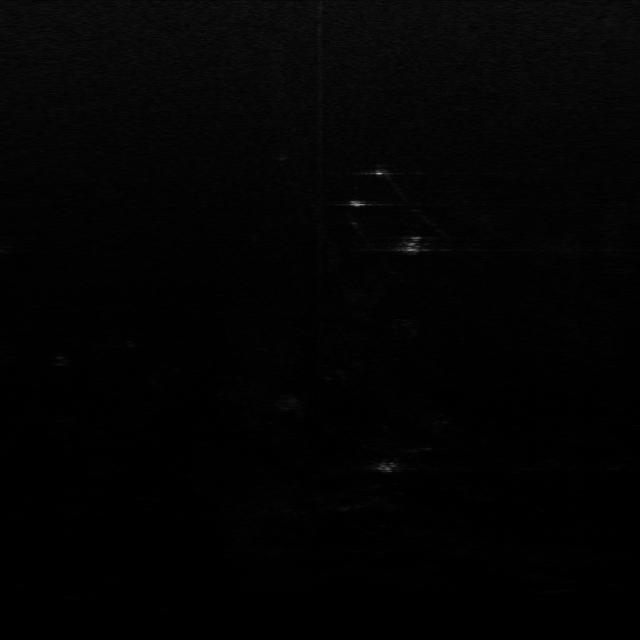rov: (401, 233, 432, 253)
